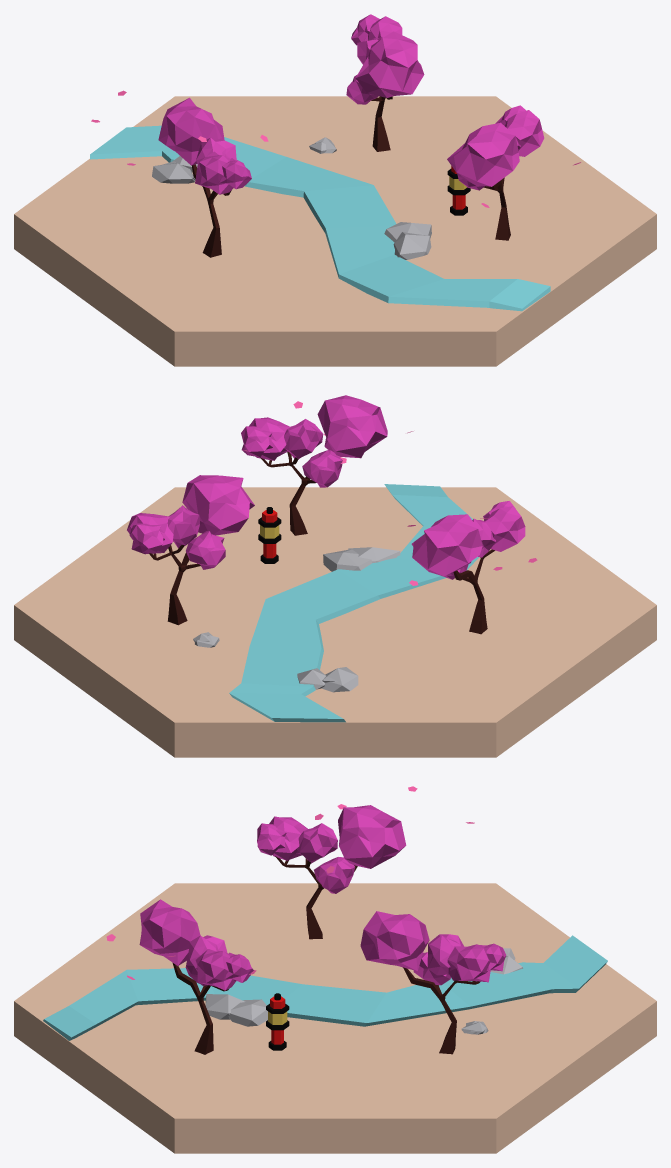
The model's file is river tile.glb.
3 views of the same model, one above another, from view 1: azimuth 30°, elevation 25°; view 2: azimuth 150°, elevation 25°; view 3: azimuth 270°, elevation 25° (orthographic).
Visible parts, largest first — view 1: Cylinder, River, Icosphere.010, Icosphere.009, Icosphere, Icosphere.007, Icosphere.002, Rock_33, Cube, Rock_11, Icosphere.001, Icosphere.003 (+4 smaller); view 2: Cylinder, River, Icosphere.009, Icosphere.010, Icosphere, Icosphere.002, Icosphere.014, Icosphere.006, Icosphere.005, Cube.002, Icosphere.013, Cube (+7 smaller); view 3: Cylinder, River, Icosphere, Icosphere.010, Icosphere.009, Icosphere.012, Icosphere.007, Icosphere.003, Icosphere.004, Icosphere.013, Cube.002, Cube.001 (+7 smaller).
Boxes of the visible parts, bbox=[...] form: Cylinder: bbox=[14, 96, 656, 366]; River: bbox=[90, 125, 550, 311]; Icosphere.010: bbox=[355, 31, 424, 97]; Icosphere.009: bbox=[447, 122, 519, 186]; Icosphere: bbox=[158, 97, 224, 165]; Icosphere.007: bbox=[504, 110, 544, 156]; Icosphere.002: bbox=[195, 151, 233, 194]; Rock_33: bbox=[393, 231, 431, 259]; Cube: bbox=[192, 164, 231, 257]; Rock_11: bbox=[152, 162, 194, 183]; Icosphere.001: bbox=[218, 158, 251, 189]; Icosphere.003: bbox=[196, 137, 236, 164]; Cylinder: bbox=[14, 487, 656, 757]; River: bbox=[229, 484, 479, 722]; Icosphere.009: bbox=[317, 395, 387, 458]; Icosphere.010: bbox=[182, 475, 254, 535]; Icosphere: bbox=[411, 514, 482, 576]; Icosphere.002: bbox=[484, 506, 525, 551]; Icosphere.014: bbox=[186, 531, 225, 569]; Icosphere.006: bbox=[284, 419, 323, 458]; Icosphere.005: bbox=[302, 450, 342, 487]; Cube.002: bbox=[149, 545, 200, 625]; Icosphere.013: bbox=[167, 505, 199, 548]; Cube: bbox=[453, 549, 494, 634]; Cylinder: bbox=[14, 883, 656, 1153]; River: bbox=[43, 935, 607, 1040]; Icosphere: bbox=[338, 805, 406, 868]; Icosphere.010: bbox=[360, 911, 429, 971]; Icosphere.009: bbox=[139, 899, 200, 965]; Icosphere.012: bbox=[447, 944, 490, 982]; Icosphere.007: bbox=[195, 949, 236, 990]; Icosphere.003: bbox=[297, 823, 337, 863]; Icosphere.004: bbox=[314, 857, 355, 893]; Icosphere.013: bbox=[427, 934, 463, 975]; Cube.002: bbox=[403, 967, 480, 1054]; Cube.001: bbox=[172, 963, 235, 1054].
Size of the model in its own units: 4.33 by 1.43 by 5.
